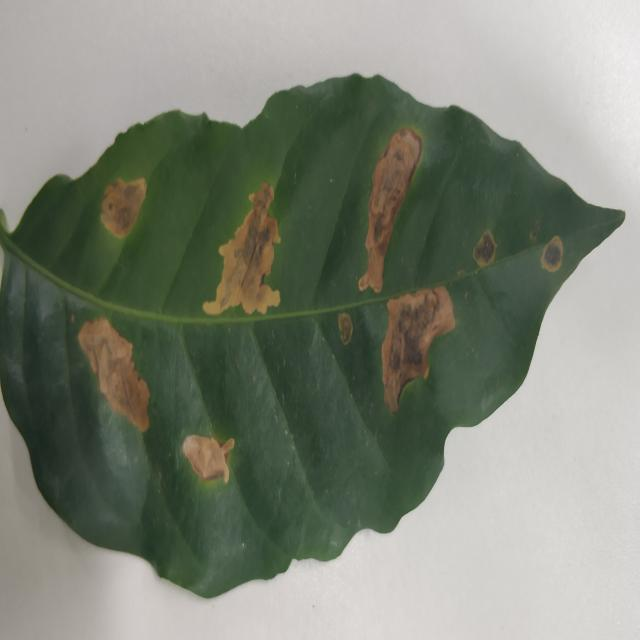Plaga-Minador: (0, 74, 627, 602)
